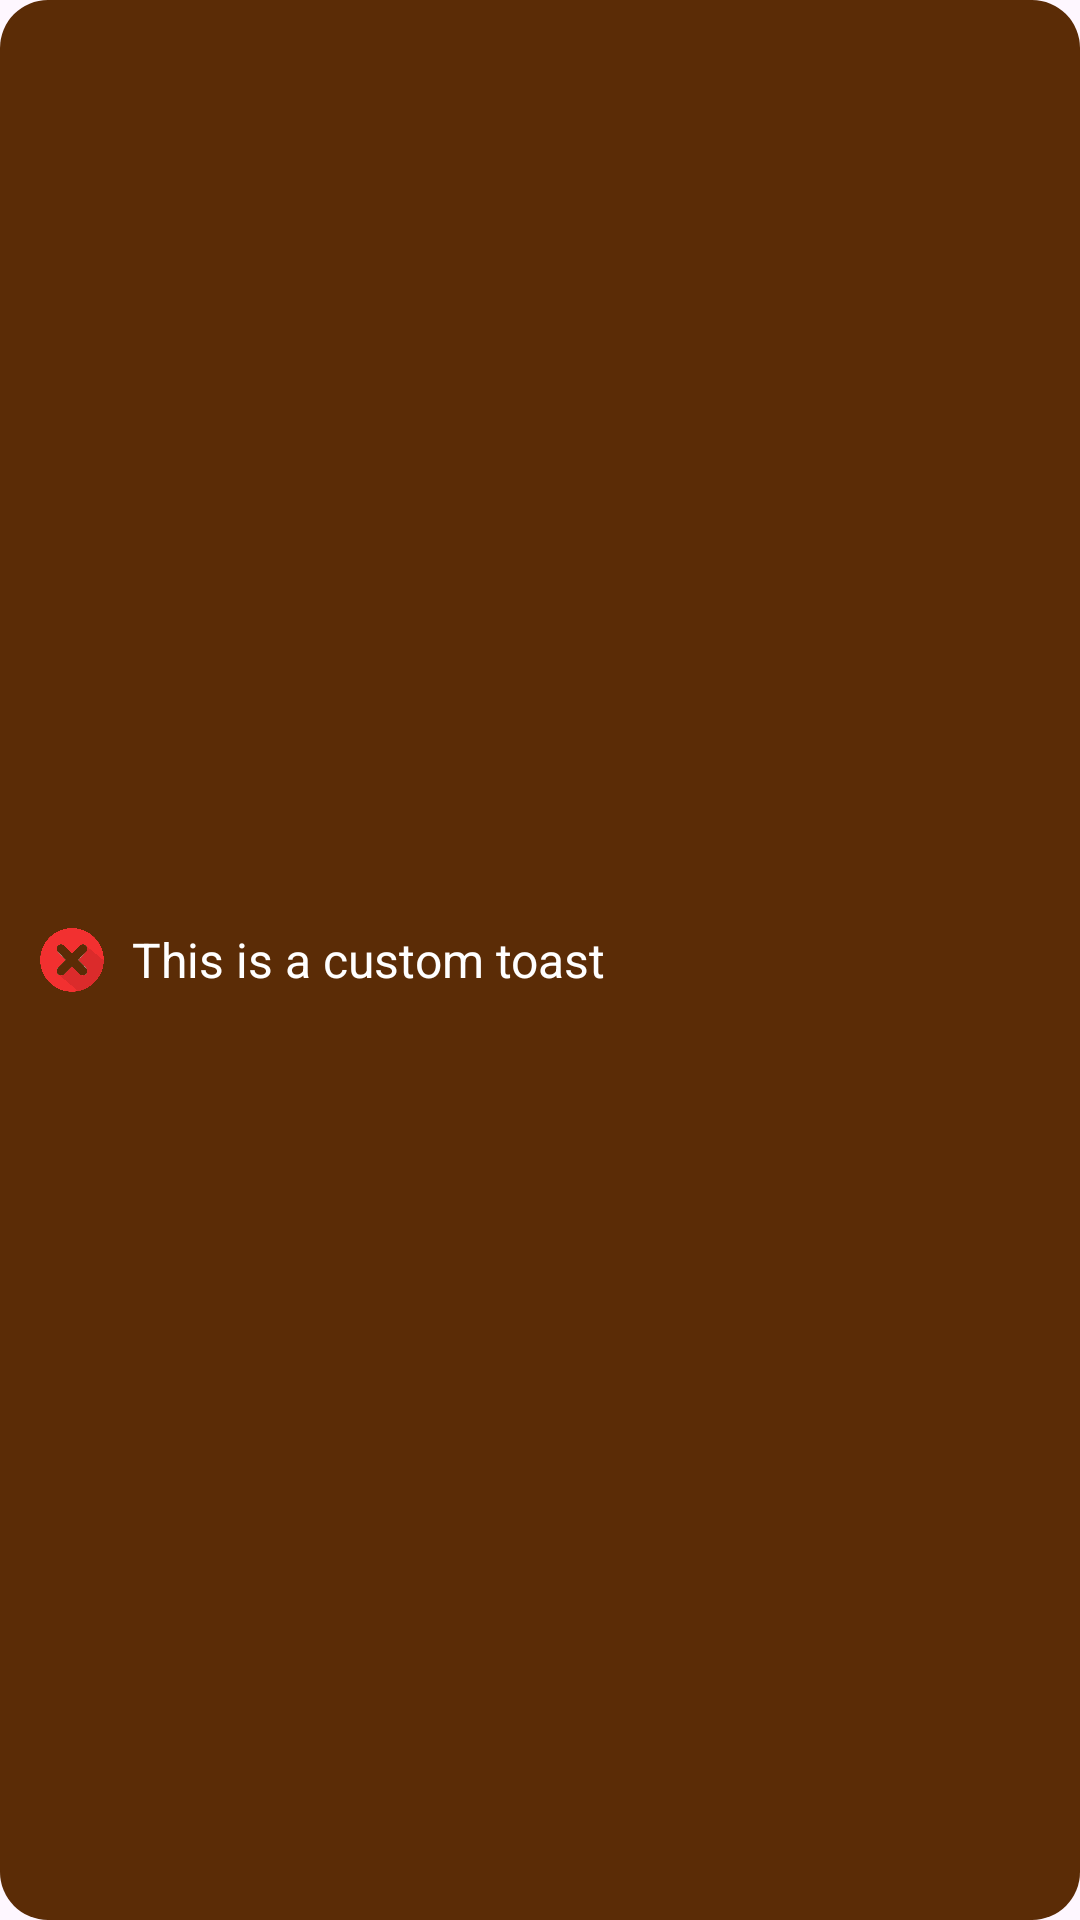

Named icons in this screenshot (1080px×1920px) and their centers, [x,y]:
fail: [72,960]
